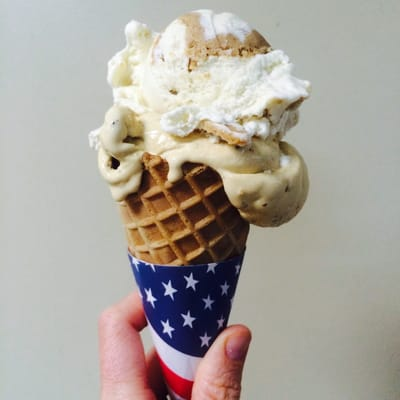pizza: (97, 287, 254, 400)
